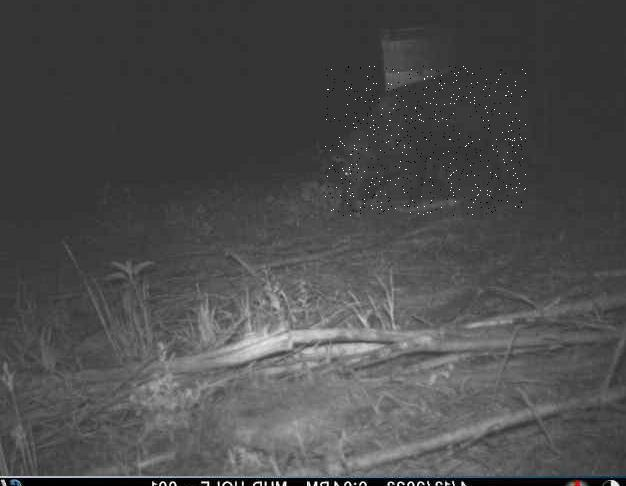Hog: (325, 67, 526, 217)
